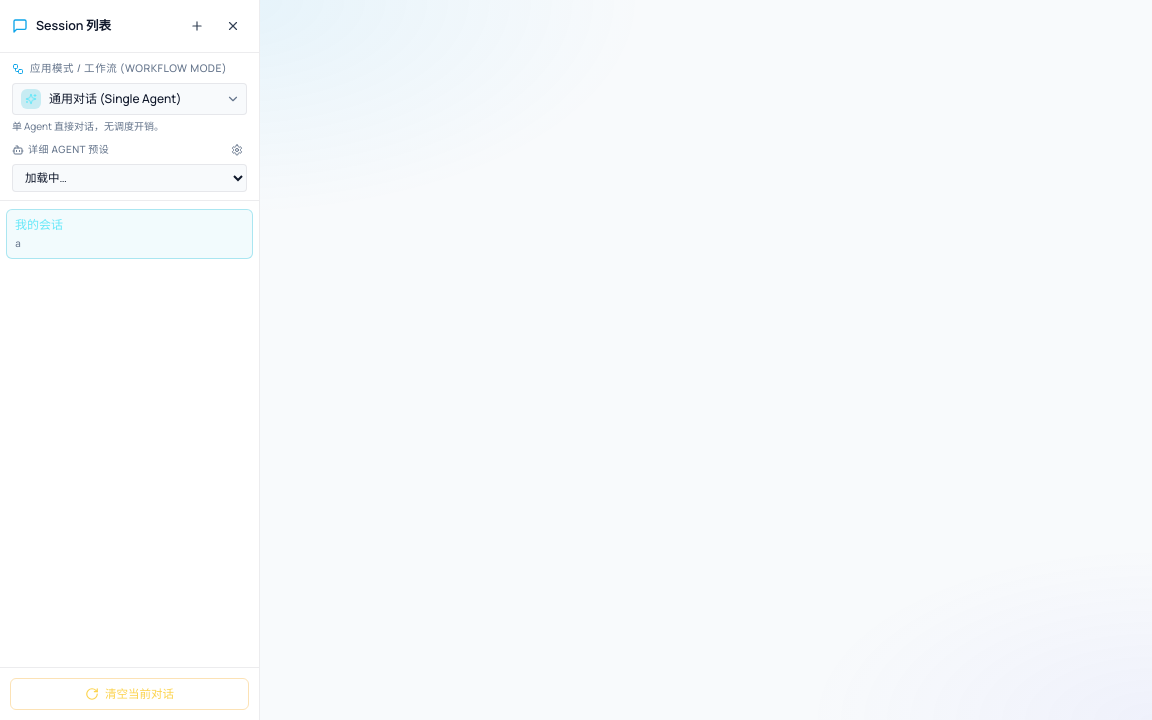
Scenario: SessionSidebar › 点击"清空当前对话"弹出确认对话框
Click the button with test id "clear-conversation-btn".
click(130, 694)  # box left=10, top=678, right=249, bottom=710
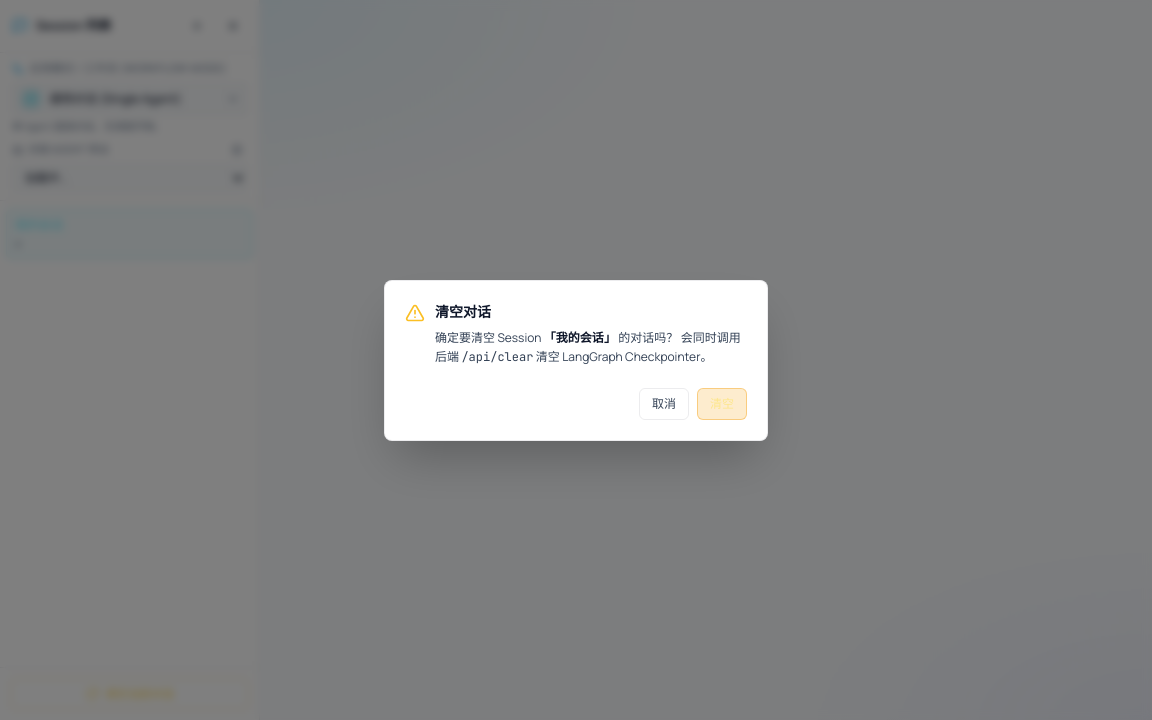
Expected: the dialog with test id "confirm-dialog" is shown
